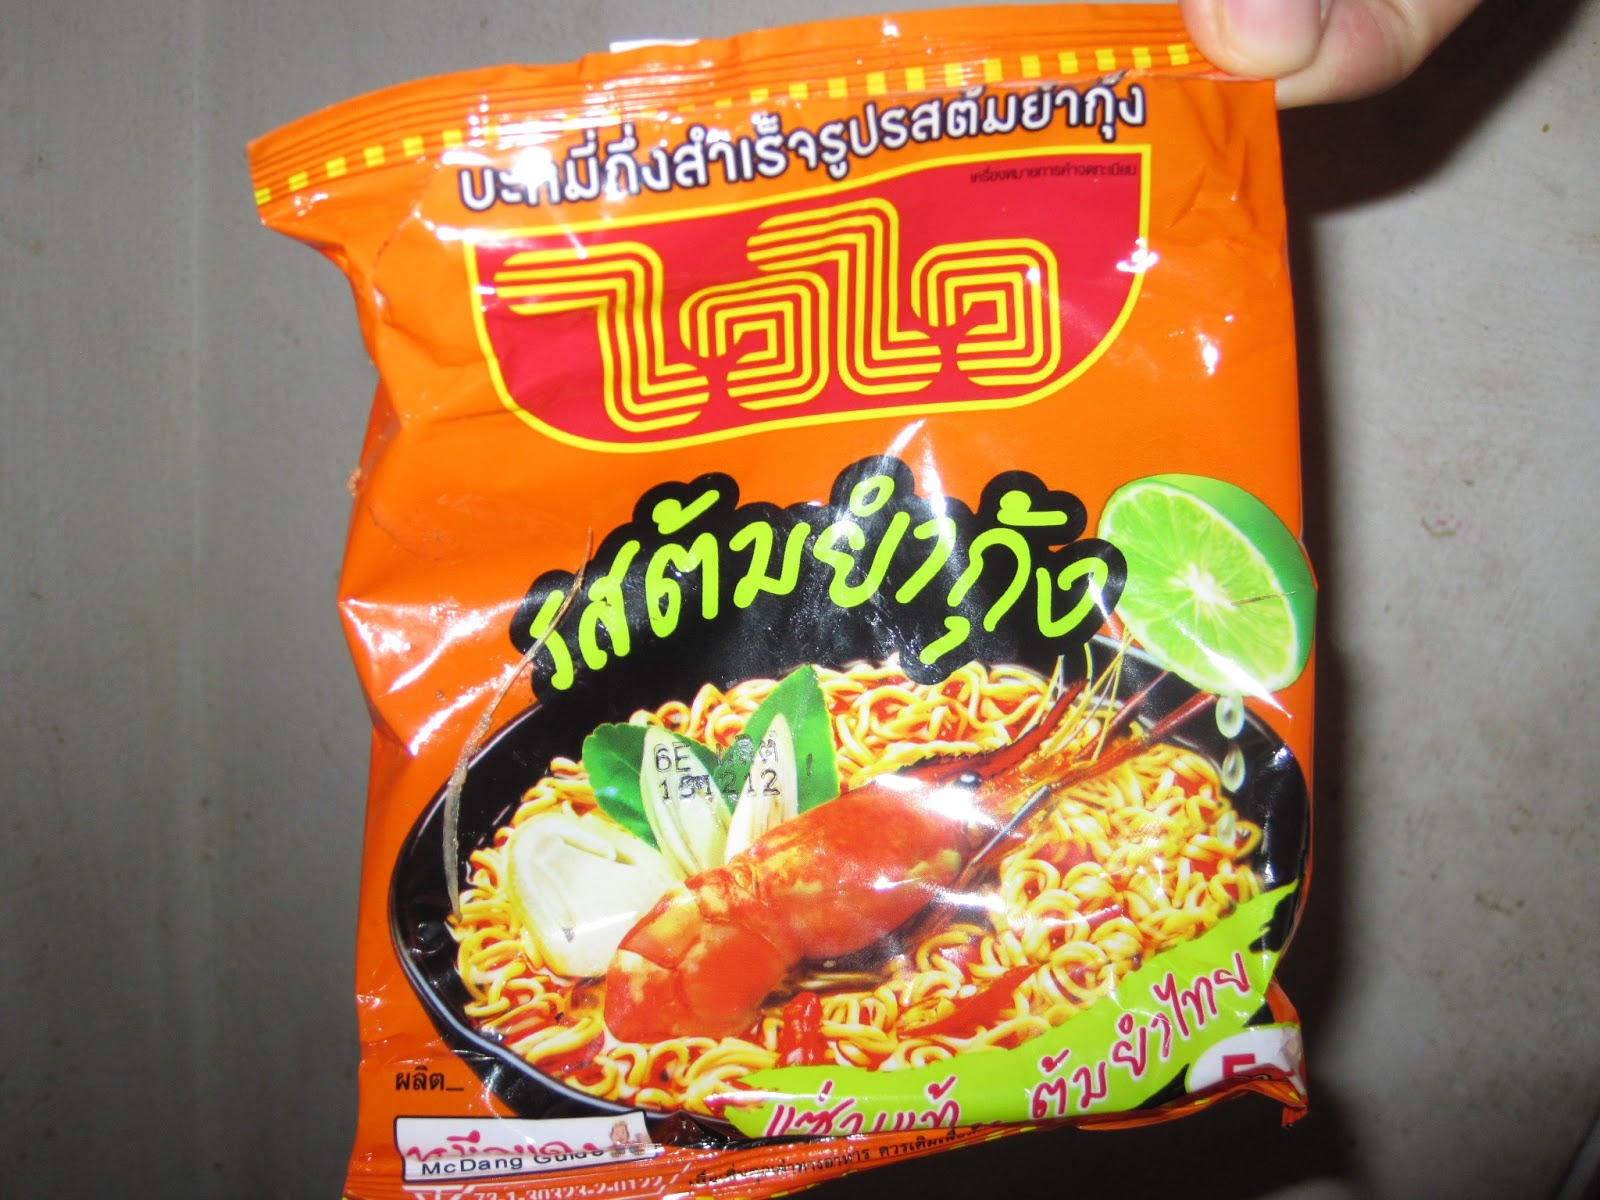Snack: (224, 16, 1364, 1200)
